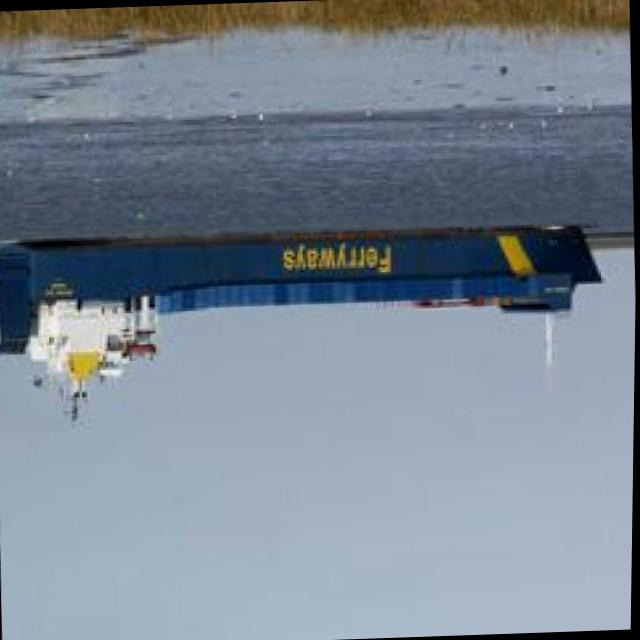ship2: (0, 222, 605, 423)
